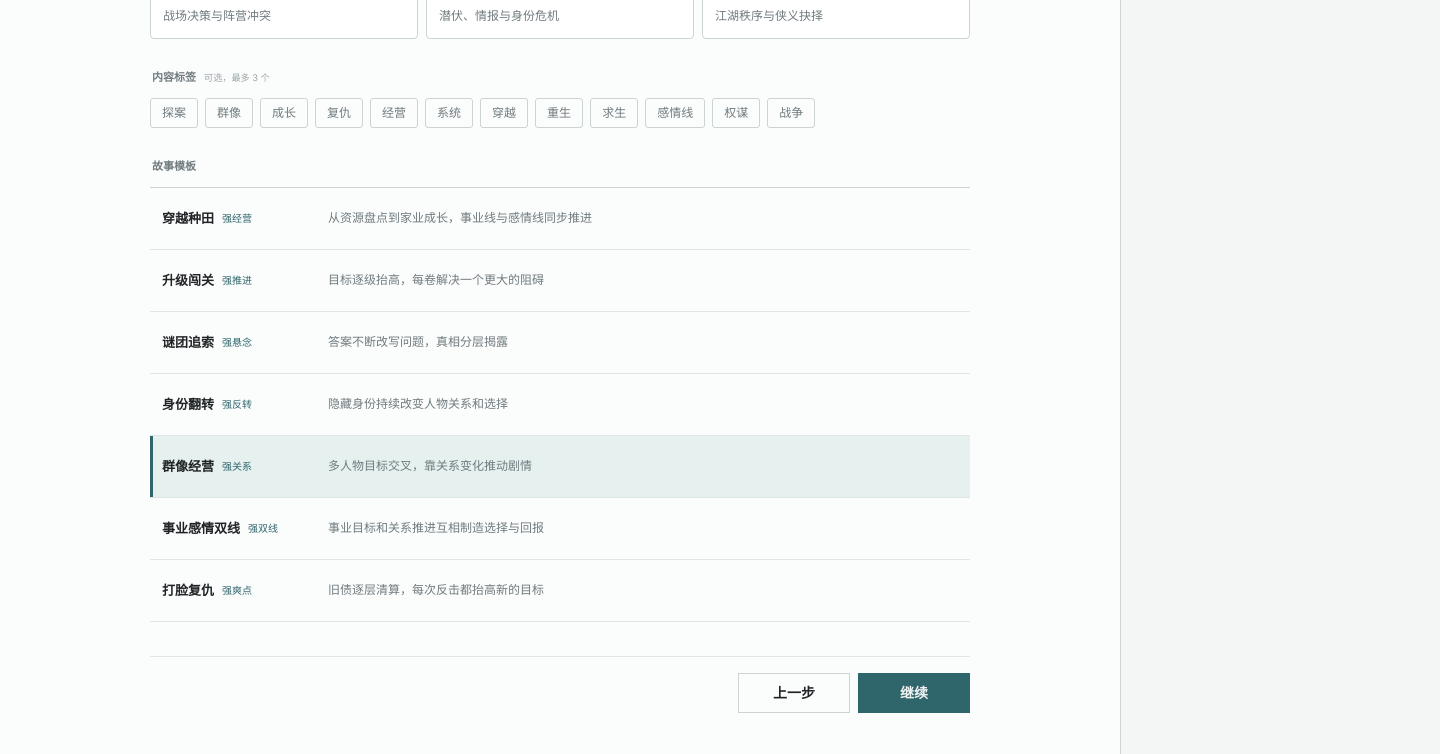
Test: new project wizard › requires an updated skeleton before returning to creation after changing the genre
(page scrolled)
Click the button "继续".
click(914, 693)  # box [858,673,970,713]
(page scrolled)
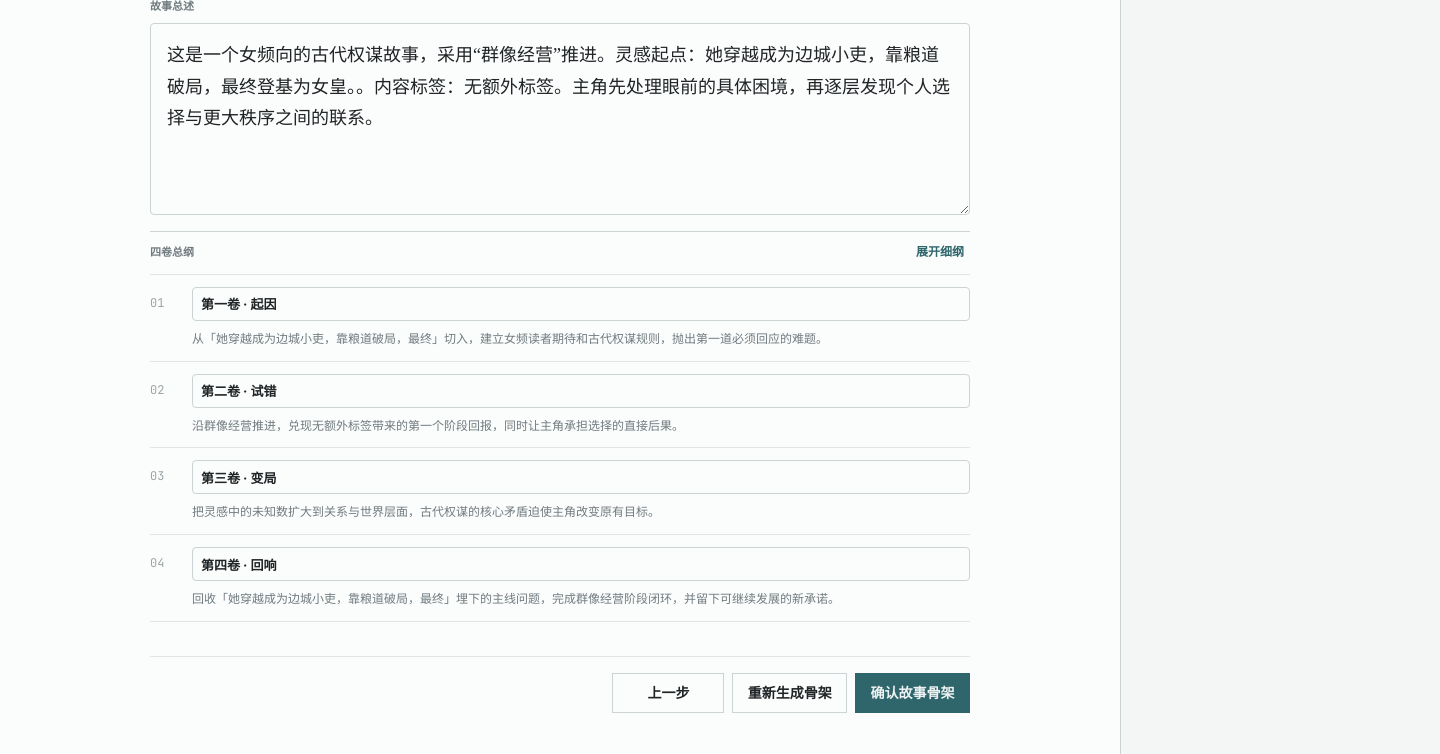
Click the button "确认故事骨架".
click(913, 693)  # box [855,673,970,713]
(page scrolled)
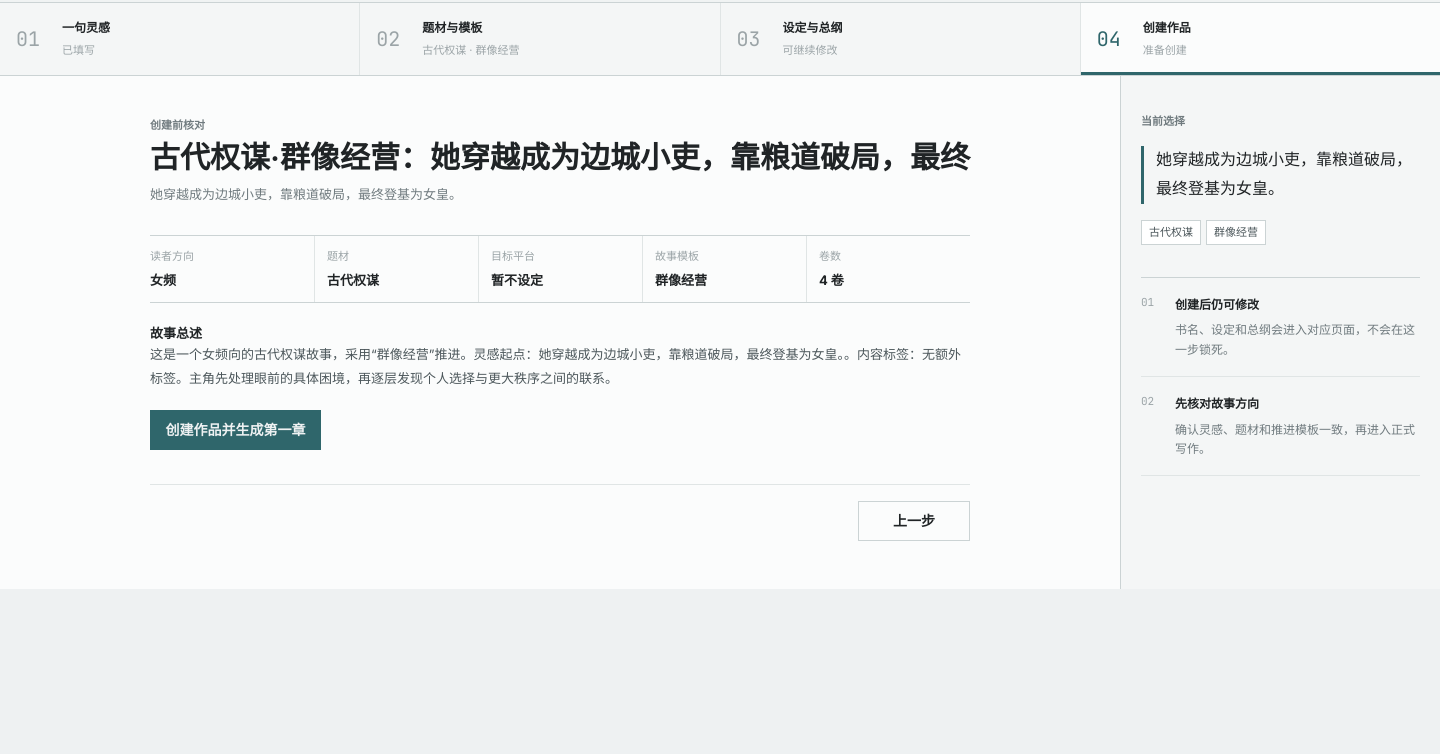
Click the button "02 题材与模板 古代权谋 · 群像经营".
click(452, 28)  # box [360,3,720,75]
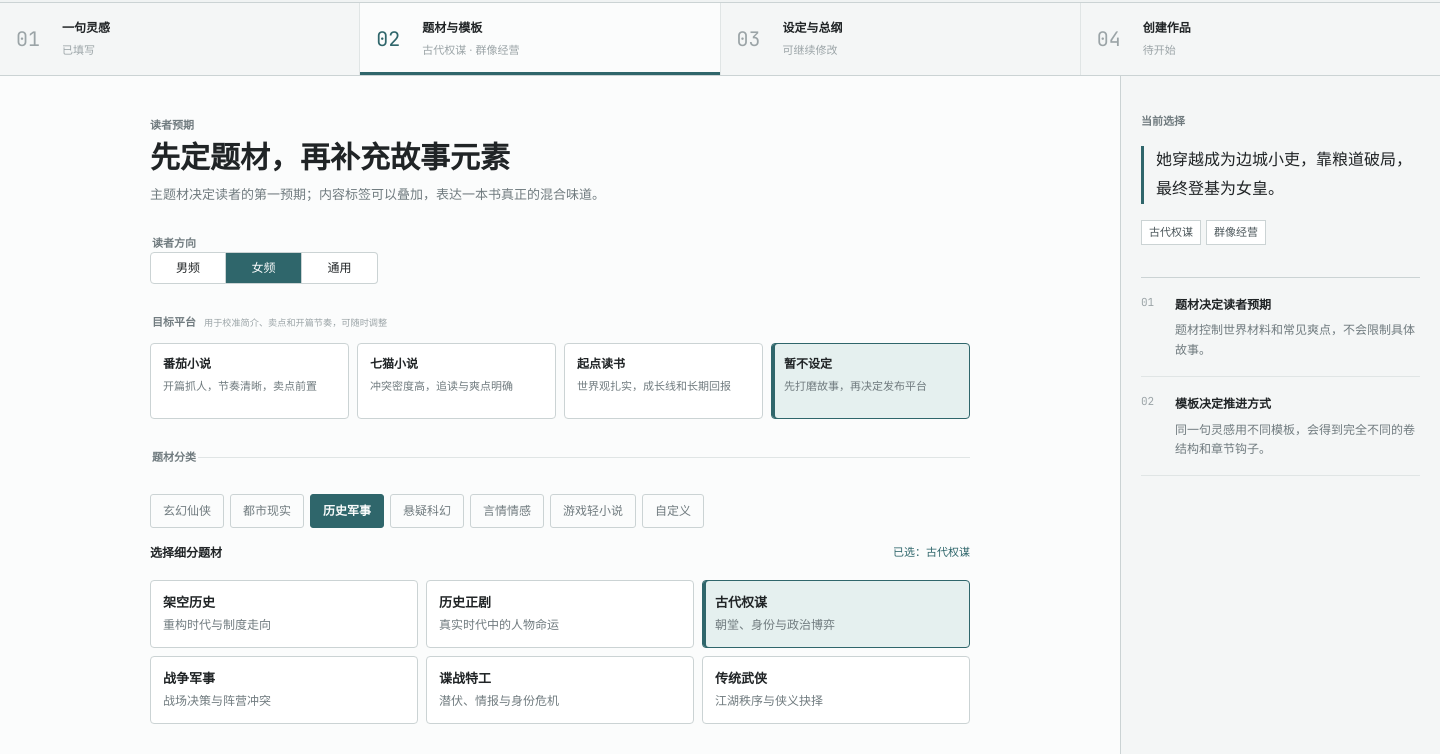
Click the radio button labelled "战争军事 战场决策与阵营冲突".
click(189, 678)  # box [150,656,418,724]
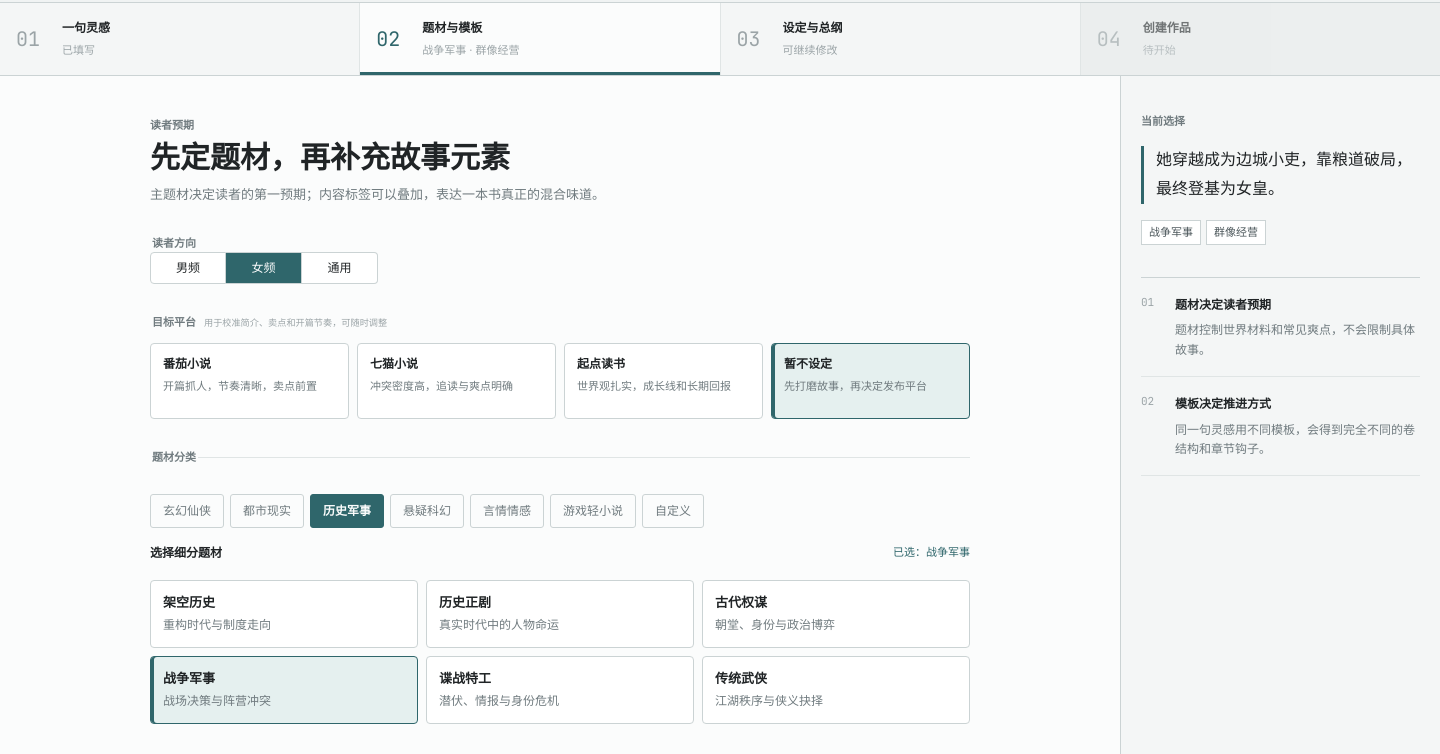
Check: the button "04 创建作品 待开始" is disabled, box [1081,3,1439,75]
Click the button "03 设定与总纲 可继续修改".
click(813, 28)  # box [720,3,1080,75]
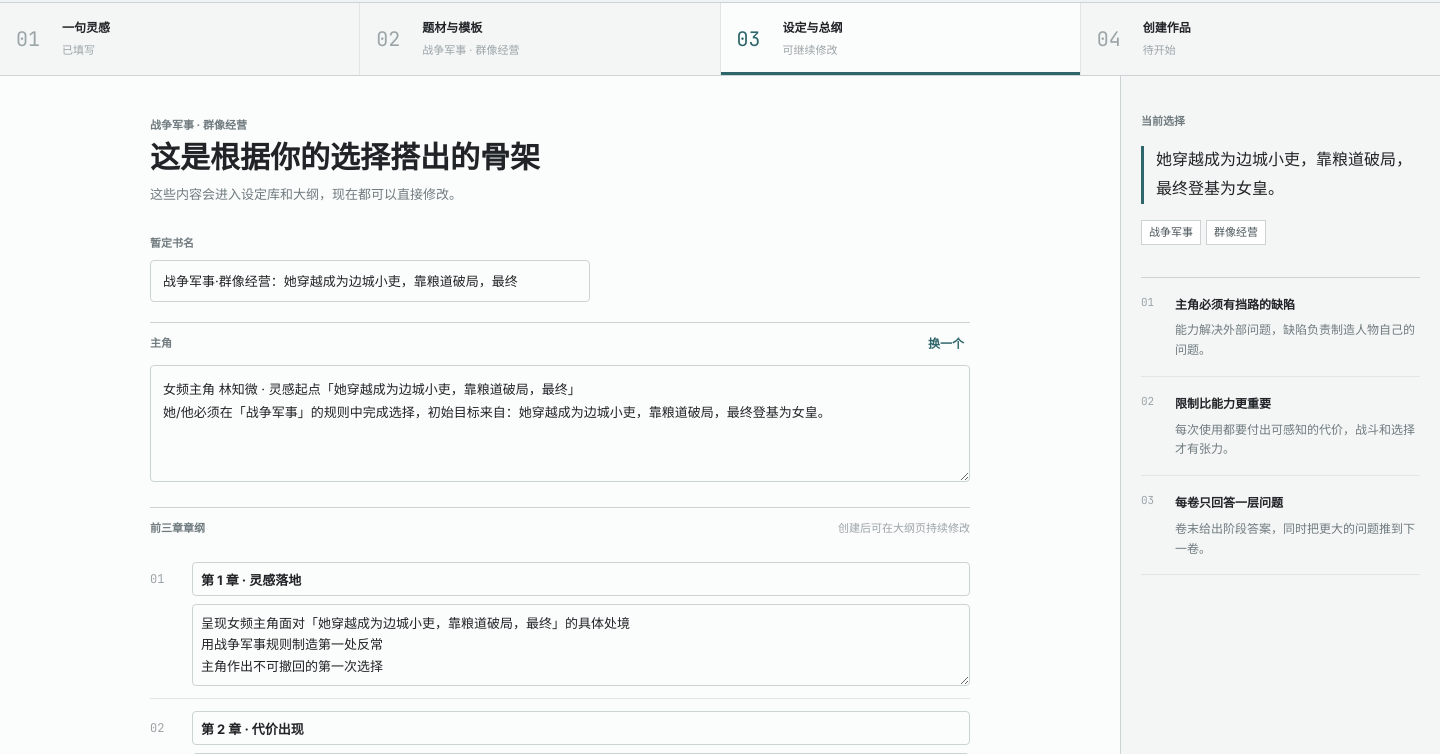
Check: the button "04 创建作品 待开始" is enabled, box [1081,3,1439,75]
